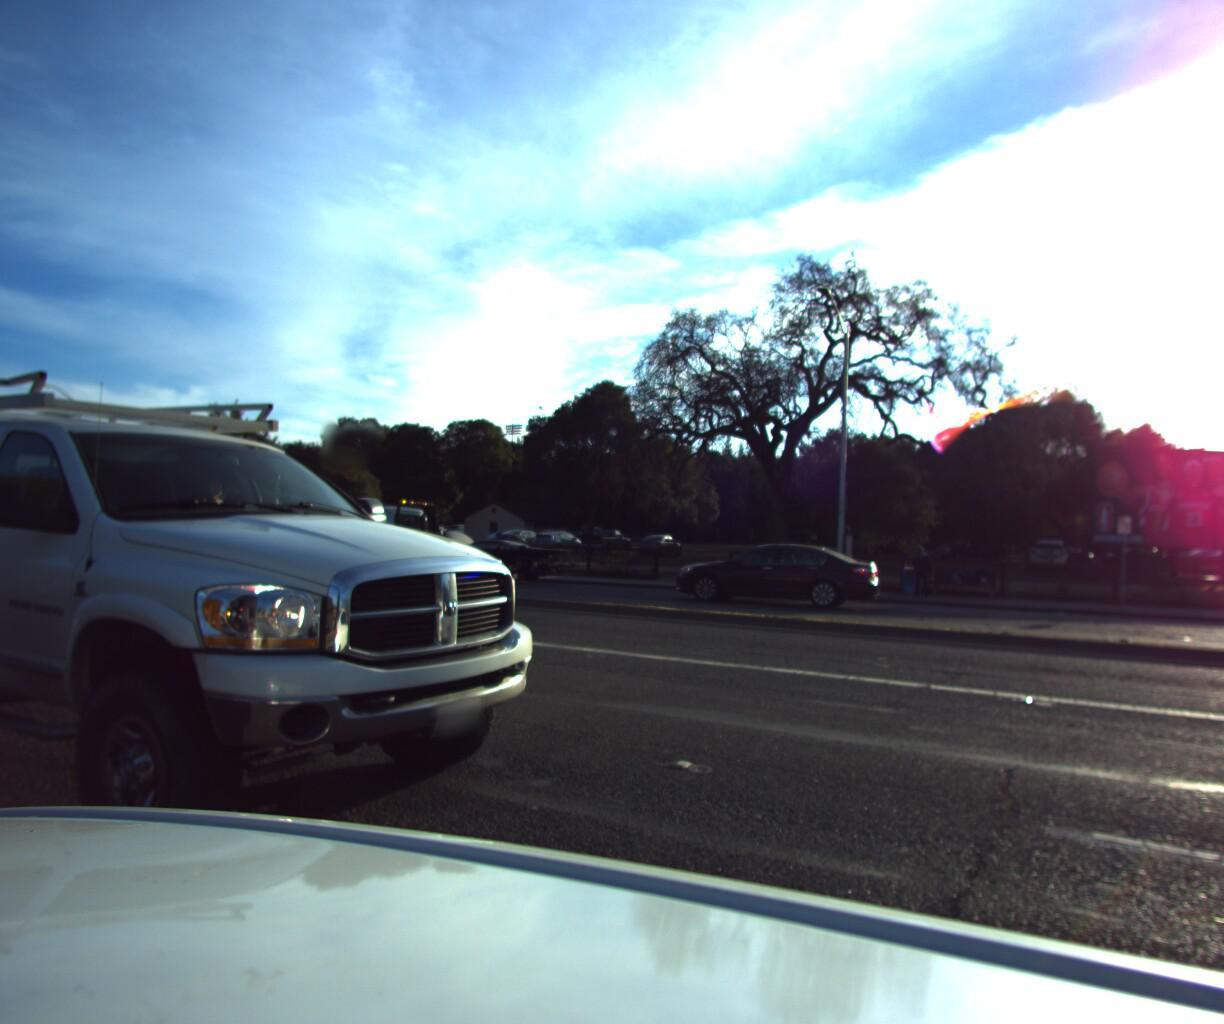car: (668, 536, 882, 610), (439, 529, 559, 582)
truck: (334, 495, 565, 583)
